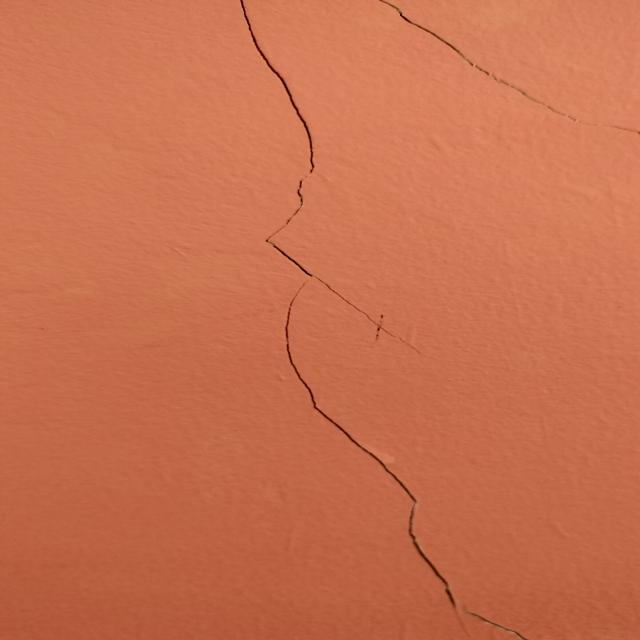Crack: (225, 88, 517, 640), (370, 2, 640, 137)
